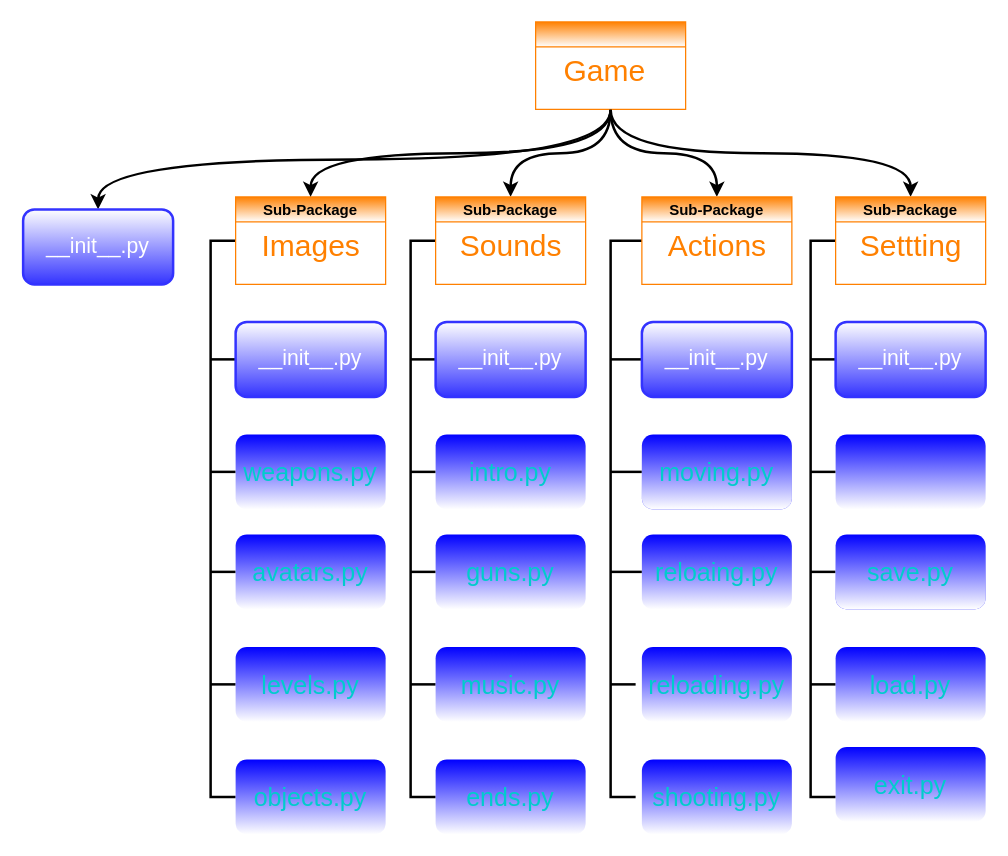
Some shapes in this 1008 by 856 pixel diagram are drawn without their labels. Here are the shapes that lost their labels. From the top down, the box of each, then its label:
(534, 21, 686, 109): MainPackage
(835, 434, 985, 509): start.py
